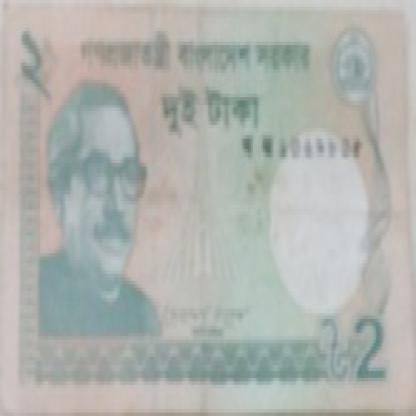two taka: (338, 312, 392, 388), (18, 24, 62, 108)
